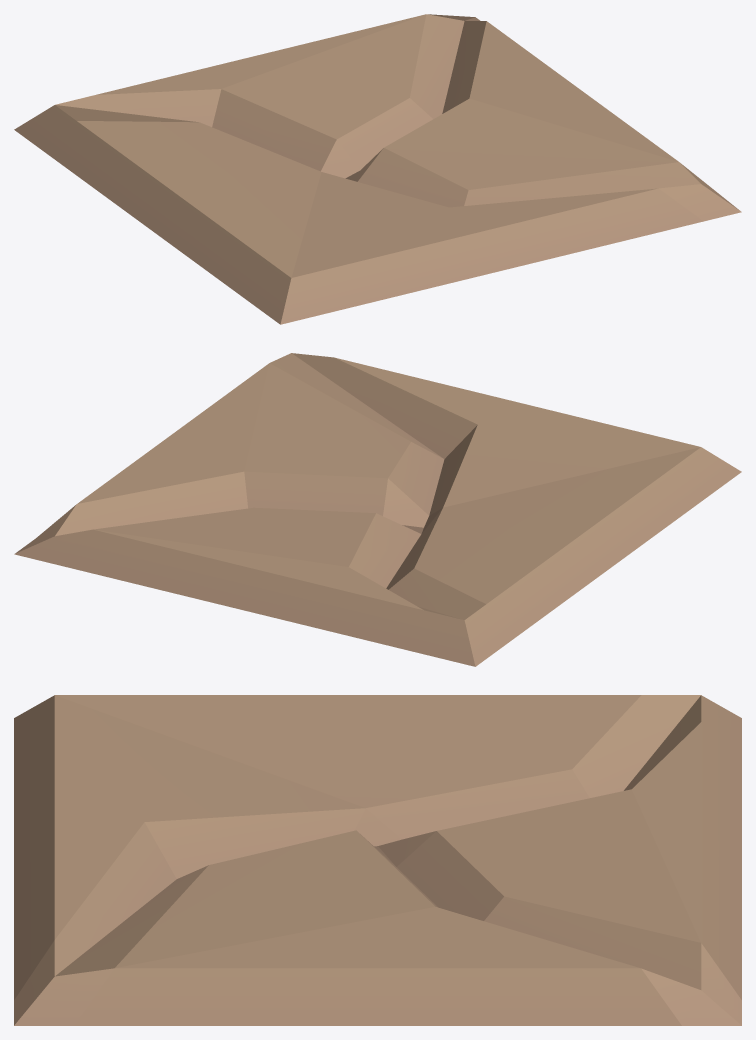
Rendered from Floor_tile_cracked_mid_B.fbx.
3 views of the same model, one above another, from view 1: azimuth 30°, elevation 25°; view 2: azimuth 150°, elevation 25°; view 3: azimuth 270°, elevation 25° (orthographic). The views are drawn at different scales.
Parts seen in each view (by area): view 1: Floor_tile_cracked_mid_B; view 2: Floor_tile_cracked_mid_B; view 3: Floor_tile_cracked_mid_B.
Part boxes in pixels (<box>): Floor_tile_cracked_mid_B: <box>14,14,741,324</box>; Floor_tile_cracked_mid_B: <box>14,353,741,666</box>; Floor_tile_cracked_mid_B: <box>14,695,741,1025</box>.
Bounding box in the file's own units: 100 × 6.82 × 100.
